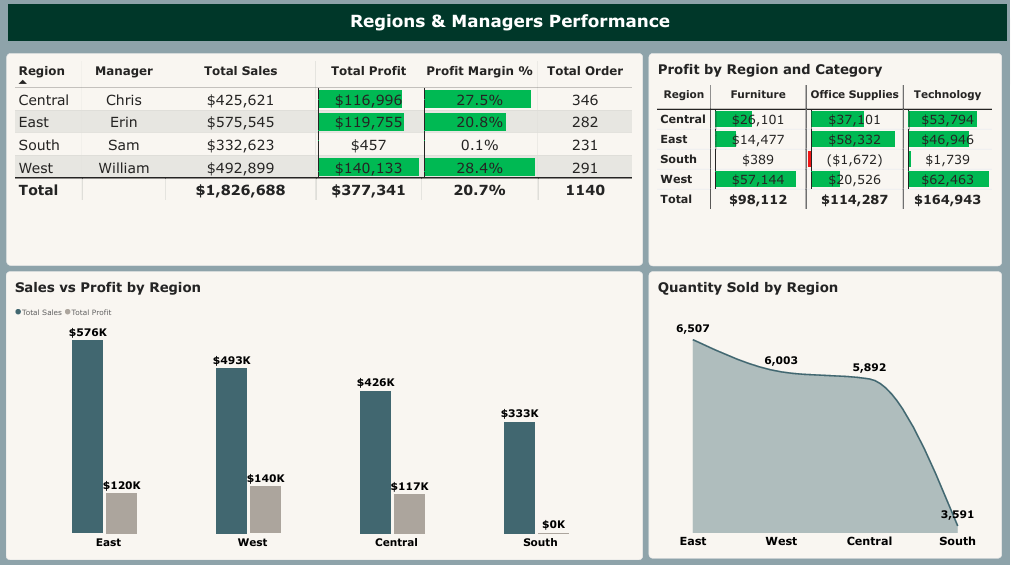

The page's visual inventory and layout, read from the dashboard file:
{"tool":"powerbi","page":{"name":"Regions & Managers","canvas":[1920,1080],"ordinal":1},"visuals":[{"type":"group","id":"g1","title":"Group 1","box":[14,9.7,1895.7,70.4],"z":0},{"type":"shape","box":[16.2,9.7,1896,70.3],"z":0,"group":"g1"},{"type":"textbox","box":[14,9.8,1896,70.3],"z":1000,"group":"g1"},{"type":"tableEx","fields":{"Values":["Orders.Region","Users.Manager","Measures..Total Sales","Measures..Total Profit","Measures..Profit Margin %","Measures..Total Order"]},"box":[12.8,102,1209.7,403.9],"z":1000},{"type":"clusteredColumnChart","title":"Sales vs Profit by Region","fields":{"Category":["Orders.Region"],"Y":["Measures..Total Sales","Measures..Total Profit"]},"box":[12.2,517.1,1209.8,548.8],"z":2000},{"type":"areaChart","title":"Quantity Sold by Region","fields":{"Category":["Orders.Region"],"Y":["Measures..Total Quantity"]},"box":[1233.1,517.1,670.7,546.3],"z":3000},{"type":"pivotTable","title":"Profit by Region and Category","fields":{"Columns":["Orders.Product Category"],"Rows":["Orders.Region"],"Values":["Measures..Total Profit"]},"box":[1233.1,102.4,670.7,404.9],"z":4000}]}

Visuals, with their boxes in screenshot pixels (x1, y1, x2, y2), scaled from the page's 1920x1080 canvas onto the 1013x565 screenshot:
"Group 1" group: rect(7, 5, 1008, 42)
shape: rect(9, 5, 1009, 42)
textbox: rect(7, 5, 1008, 42)
tableEx - Orders.Region x Users.Manager: rect(7, 53, 645, 265)
"Sales vs Profit by Region" clusteredColumnChart: rect(6, 271, 645, 558)
"Quantity Sold by Region" areaChart: rect(651, 271, 1004, 556)
"Profit by Region and Category" pivotTable: rect(651, 54, 1004, 265)
